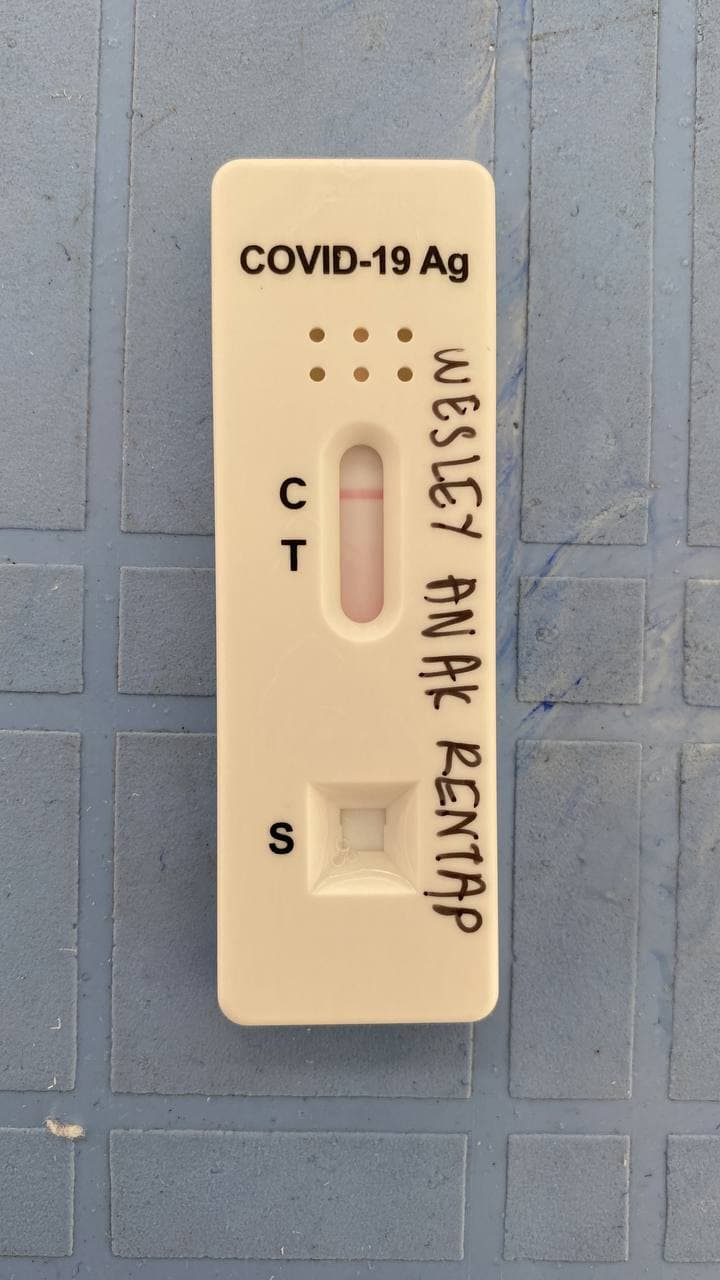rapid_test: (206, 166, 499, 1023)
